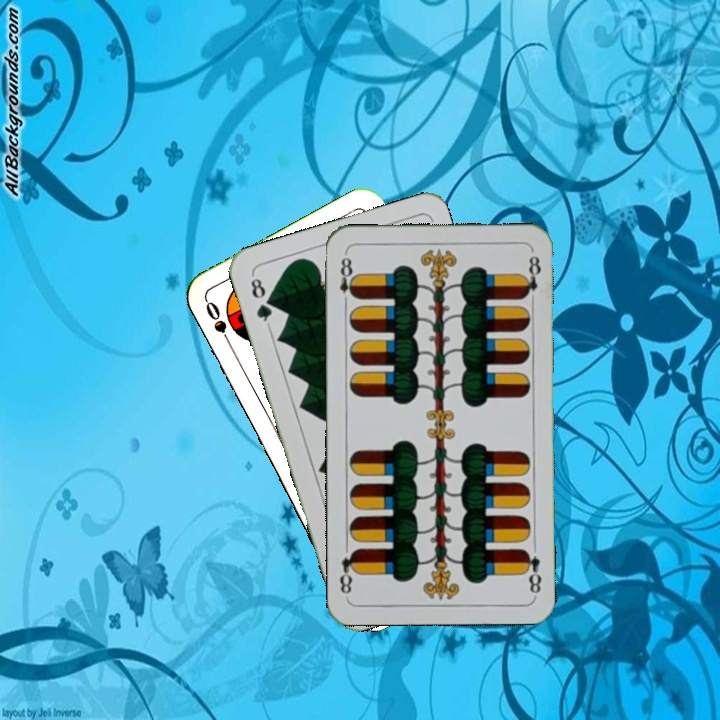E8: (336, 250, 359, 309), (519, 546, 544, 597)
G8: (246, 271, 275, 329)
SO: (201, 297, 236, 352)
